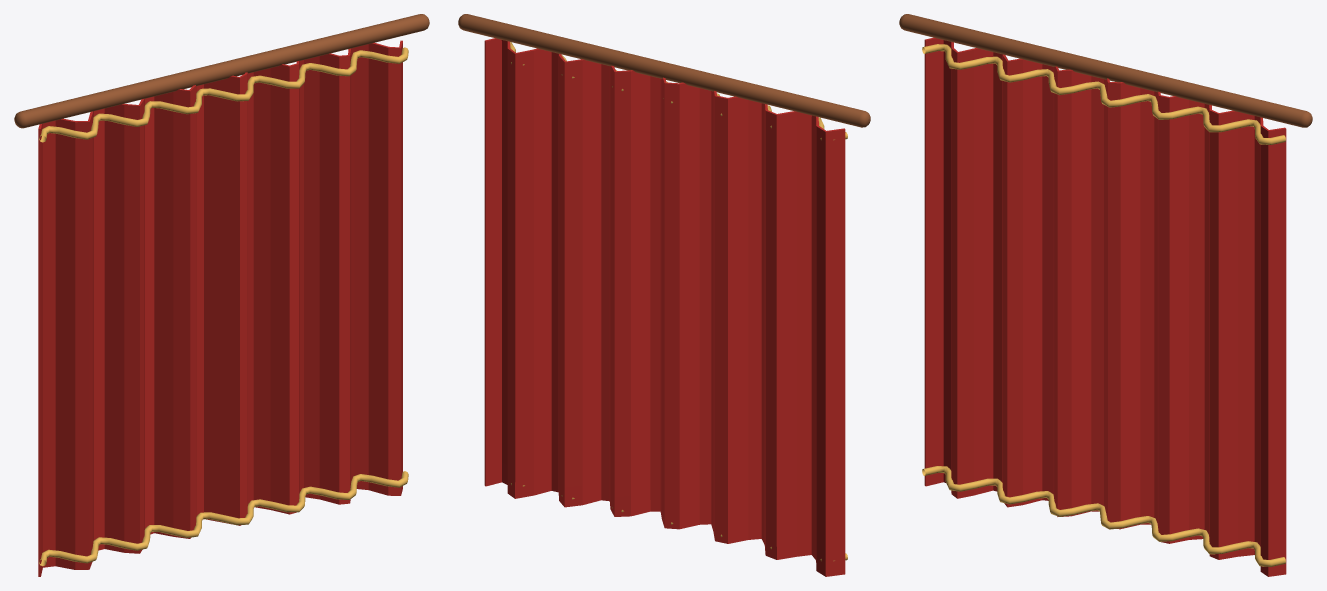
The model's file is stage-drape.glb.
3 renders of one model, left to right at view 1: azimuth 30°, elevation 25°; view 2: azimuth 150°, elevation 25°; view 3: azimuth 330°, elevation 25°, orthographic.
Visible parts, largest first — view 1: stage-drape; view 2: stage-drape; view 3: stage-drape.
Boxes of the visible parts, box(x1,y1,x2,y2) form: stage-drape: box(14, 14, 429, 576); stage-drape: box(458, 14, 870, 576); stage-drape: box(899, 14, 1312, 576).
Size of the model in its own units: 2.5 by 2.73 by 0.2337.
